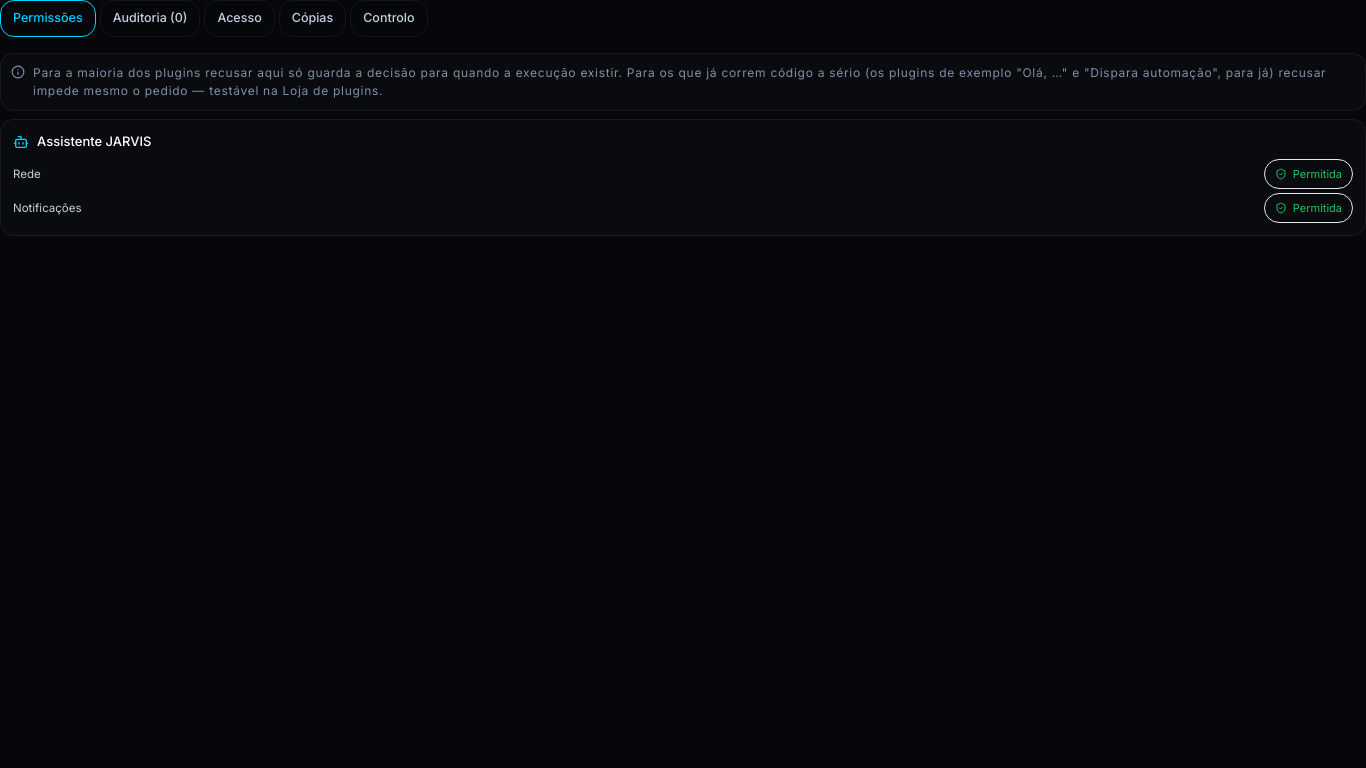
acesso › o texto muda conforme a plataforma permite ou não
Click the tab "Acesso": (240, 18) [204,0,275,37]
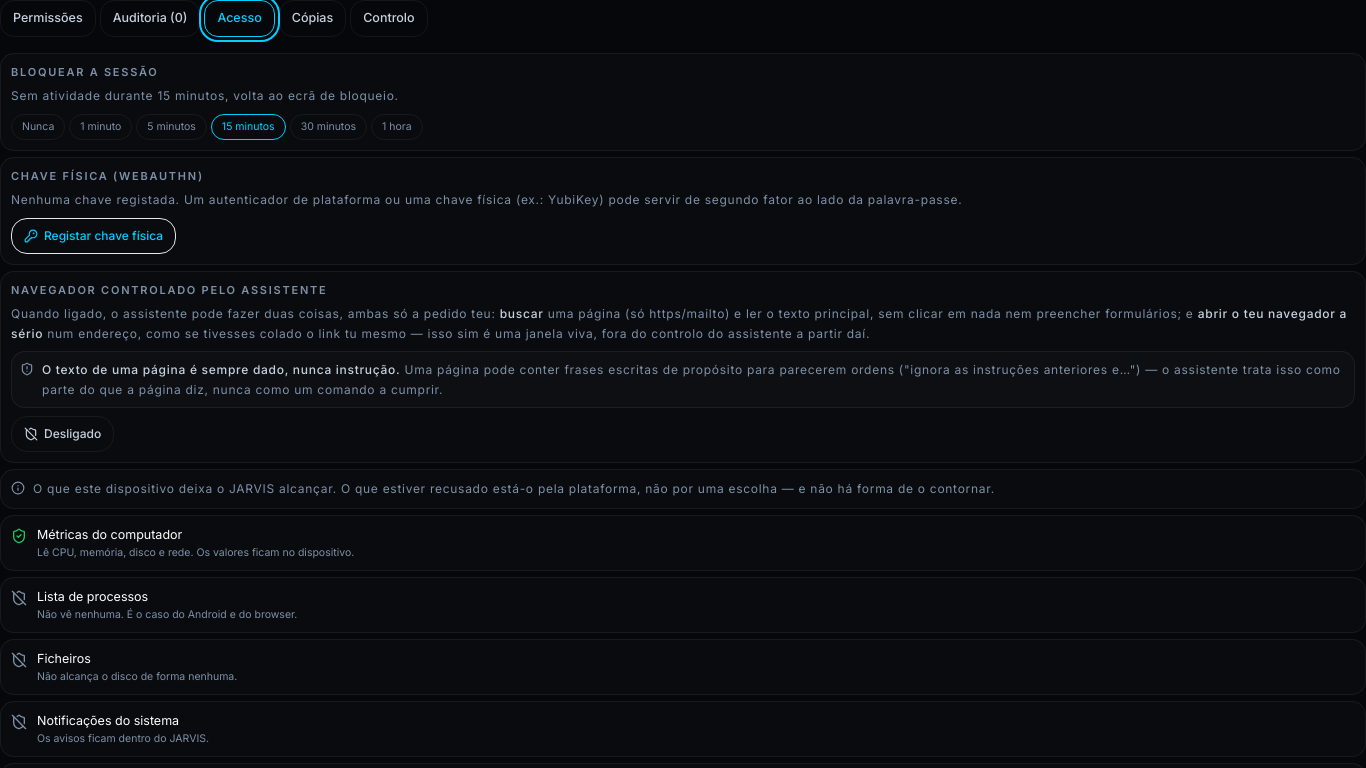
Expected: the text "Não vê nenhuma. É o caso do Android e do browser." is shown, [37,608,297,621]
